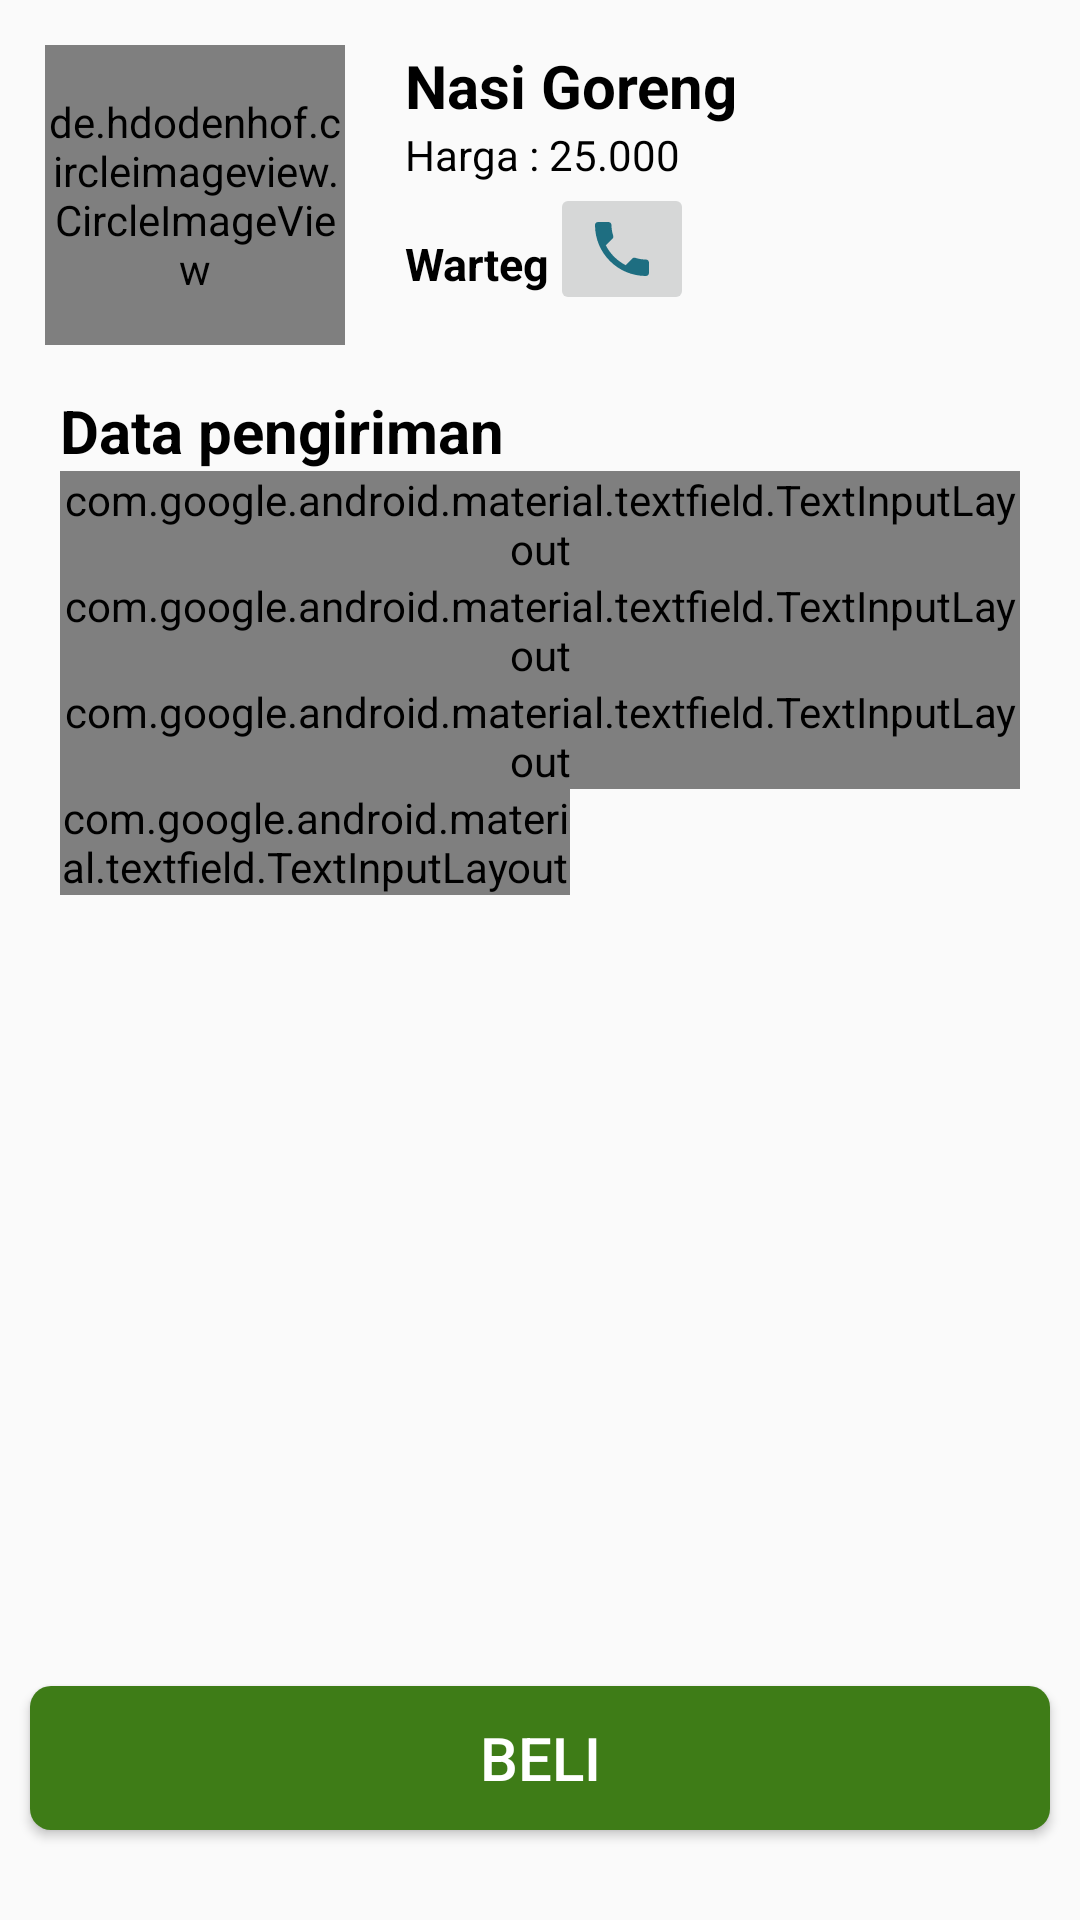

Named icons in this screenshot (1080*1920) and their centers, point (x, y):
imagephone: point (622, 249)
